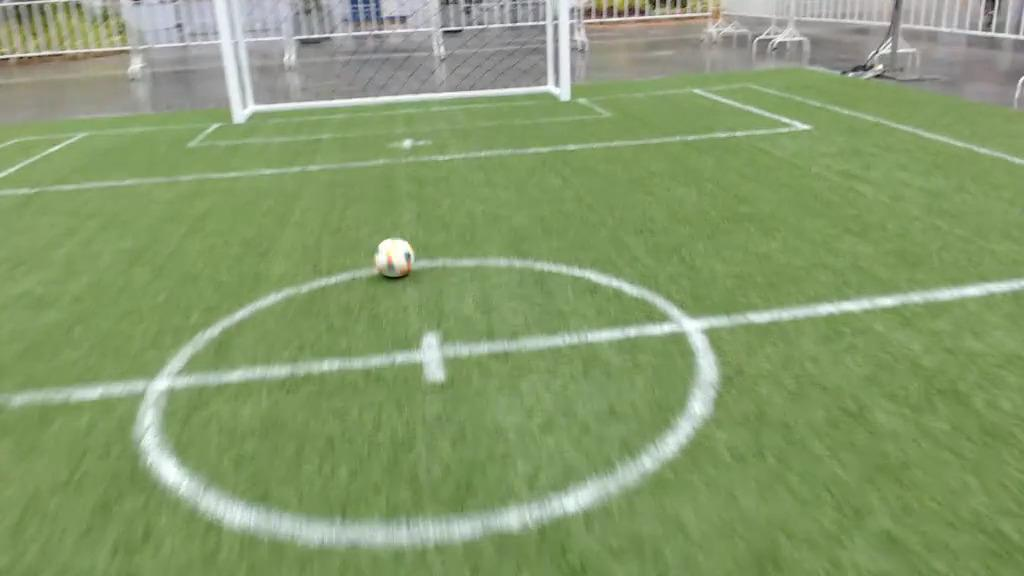ball: (367, 230, 424, 291)
